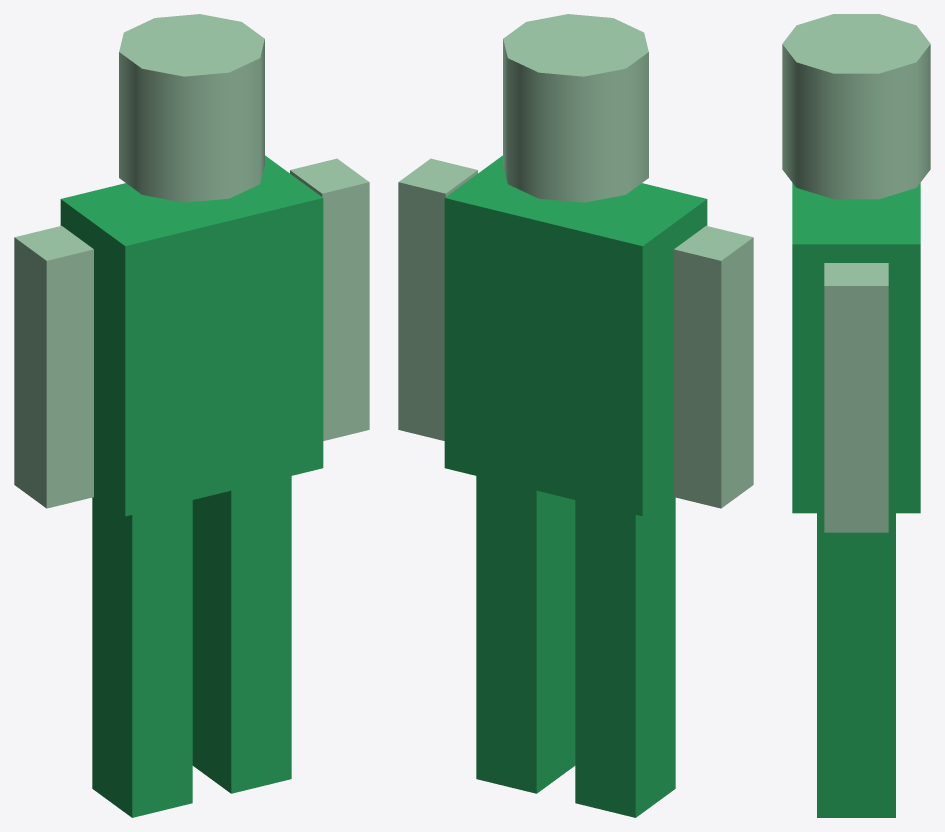
Rendered from warden.glb.
3 views of the same model, side by side, from view 1: azimuth 30°, elevation 25°; view 2: azimuth 150°, elevation 25°; view 3: azimuth 270°, elevation 25° (orthographic).
Size of the model in its own units: 0.75 by 1.64 by 0.3.
